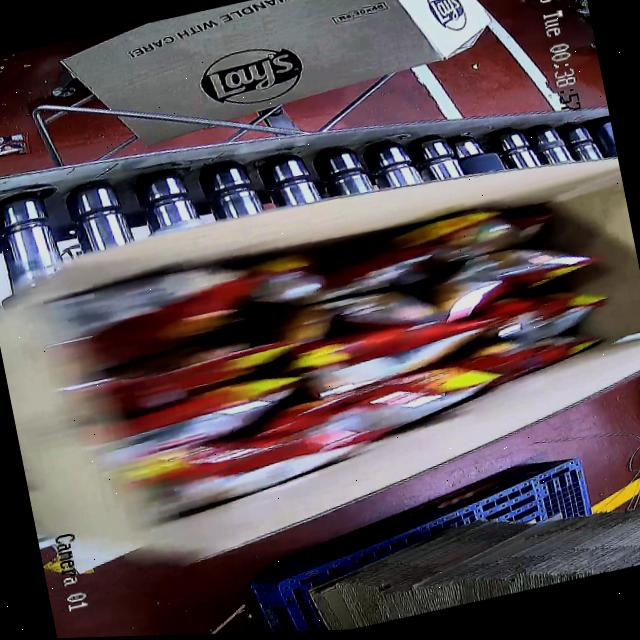MASALA: (33, 181, 628, 516)
